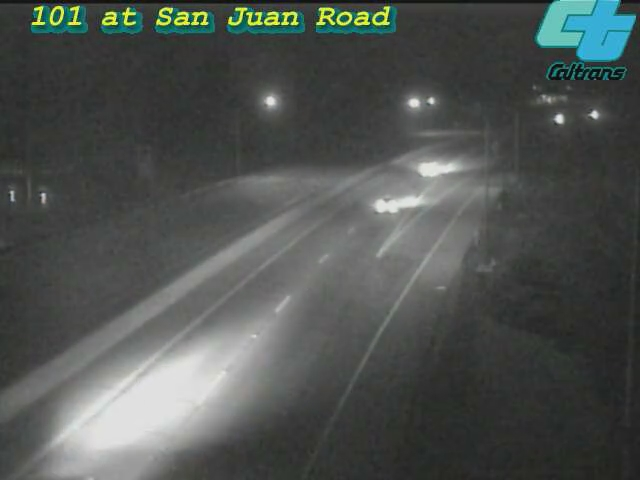vehicle: (387, 130, 467, 210), (346, 165, 426, 245), (533, 93, 583, 143), (569, 91, 619, 141)
